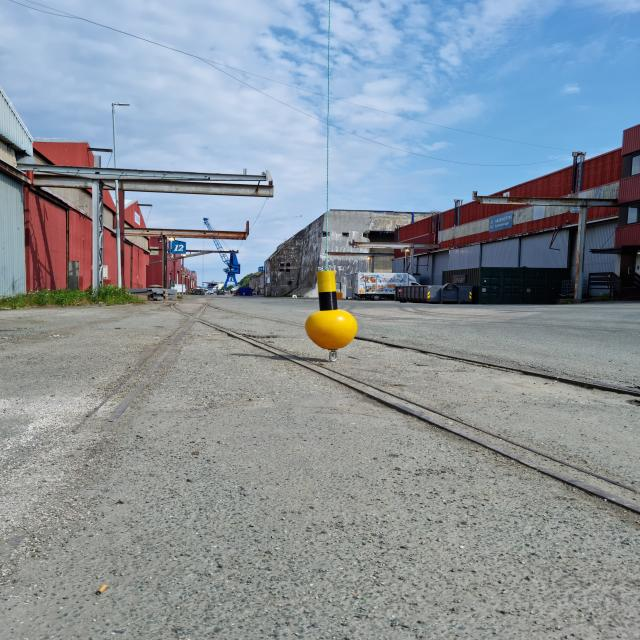west: (306, 272, 357, 350)
